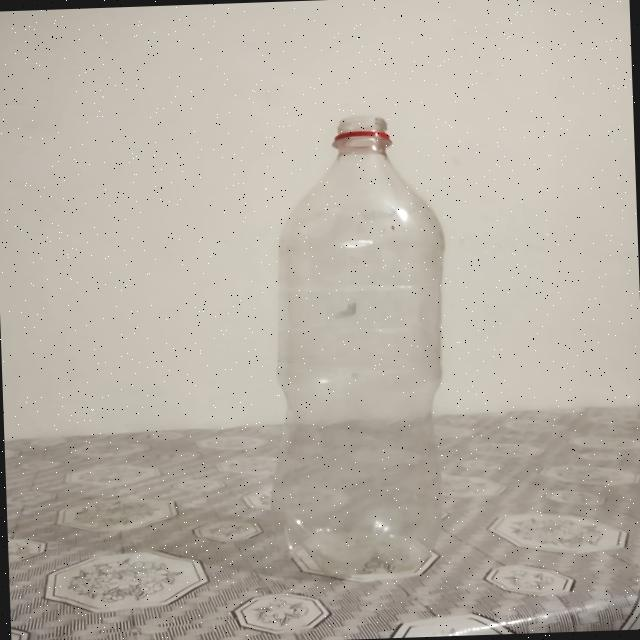bottle: (256, 110, 462, 590)
